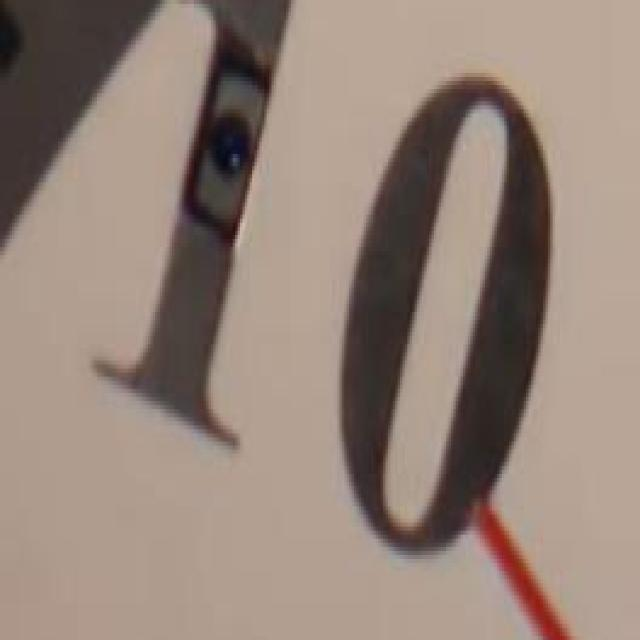hidden camera: (191, 34, 272, 237)
